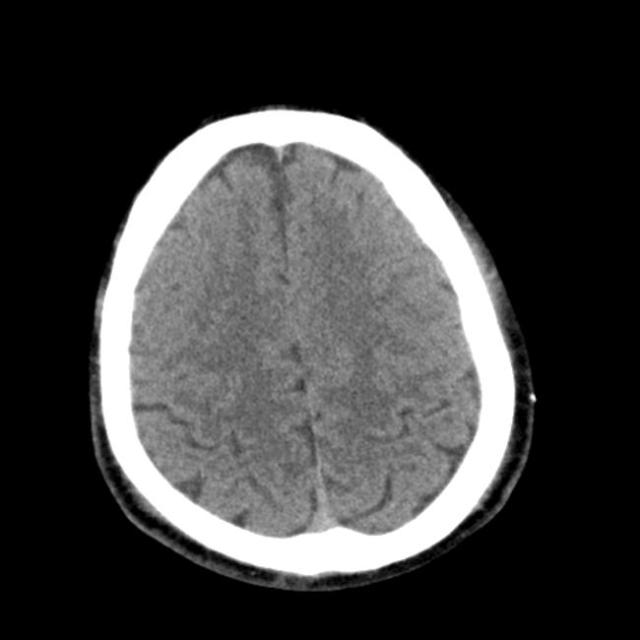lesion: (86, 103, 538, 591)
